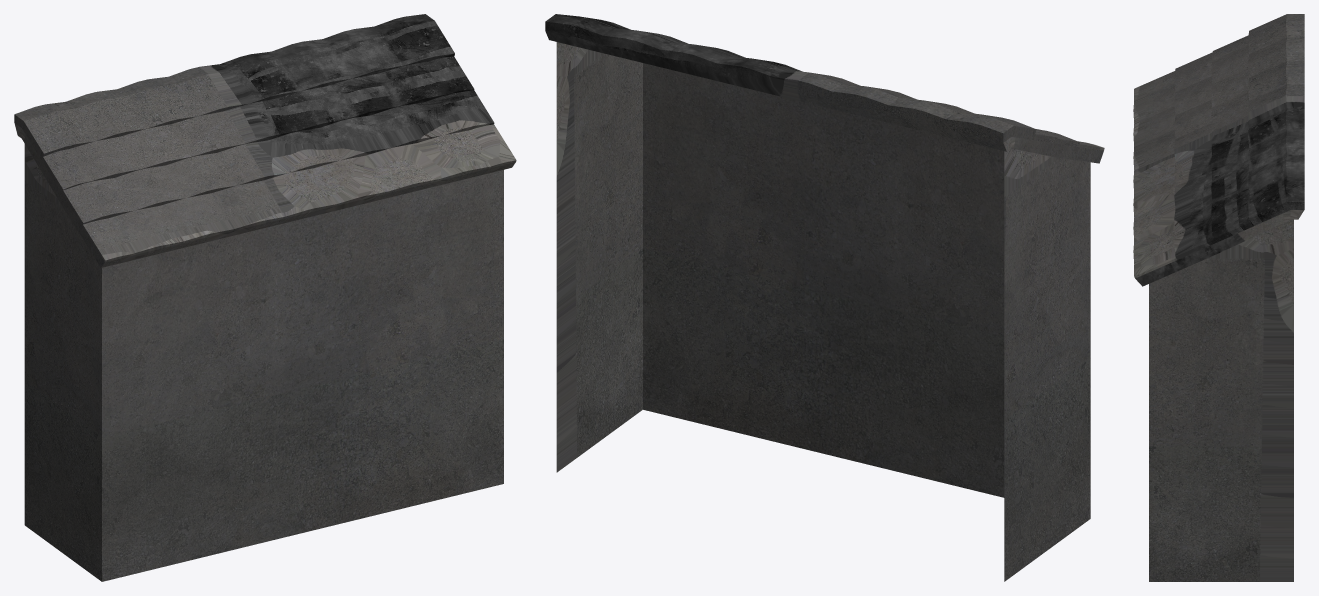
File: Wall_thick3.fbx
The picture shows the model from 3 angles, left to right: view 1: azimuth 30°, elevation 25°; view 2: azimuth 150°, elevation 25°; view 3: azimuth 270°, elevation 25°; orthographic projection. The views are drawn at different scales.
Parts seen in each view (by area): view 1: Wall_thick3; view 2: Wall_thick3; view 3: Wall_thick3.
Boxes of the visible parts, bbox=[...] form: Wall_thick3: bbox=[14, 14, 516, 581]; Wall_thick3: bbox=[545, 14, 1104, 581]; Wall_thick3: bbox=[1133, 14, 1304, 581].
Bounding box in the file's own units: 3.07 × 2.93 × 1.18.
Materials: 1 (1 with a texture image).
